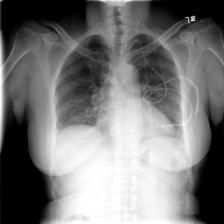normal: (47, 19, 198, 211)
